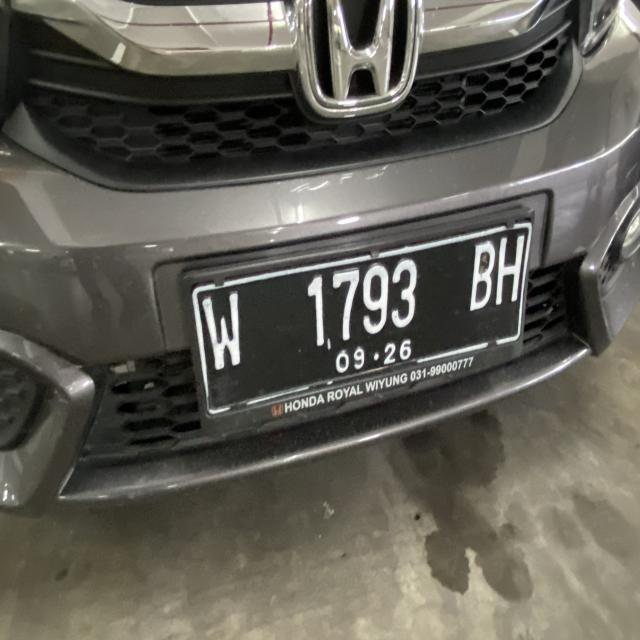1: (302, 270, 329, 352)
3: (392, 258, 419, 326)
7: (333, 268, 361, 340)
9: (362, 264, 390, 333)
B: (473, 242, 495, 312)
H: (498, 237, 524, 310)
W: (200, 295, 253, 374)
